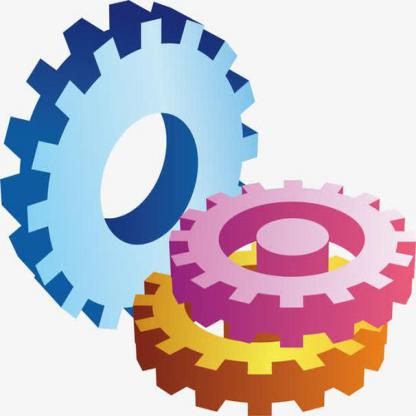FOD: (0, 1, 262, 335), (132, 244, 390, 415), (165, 173, 415, 349)
